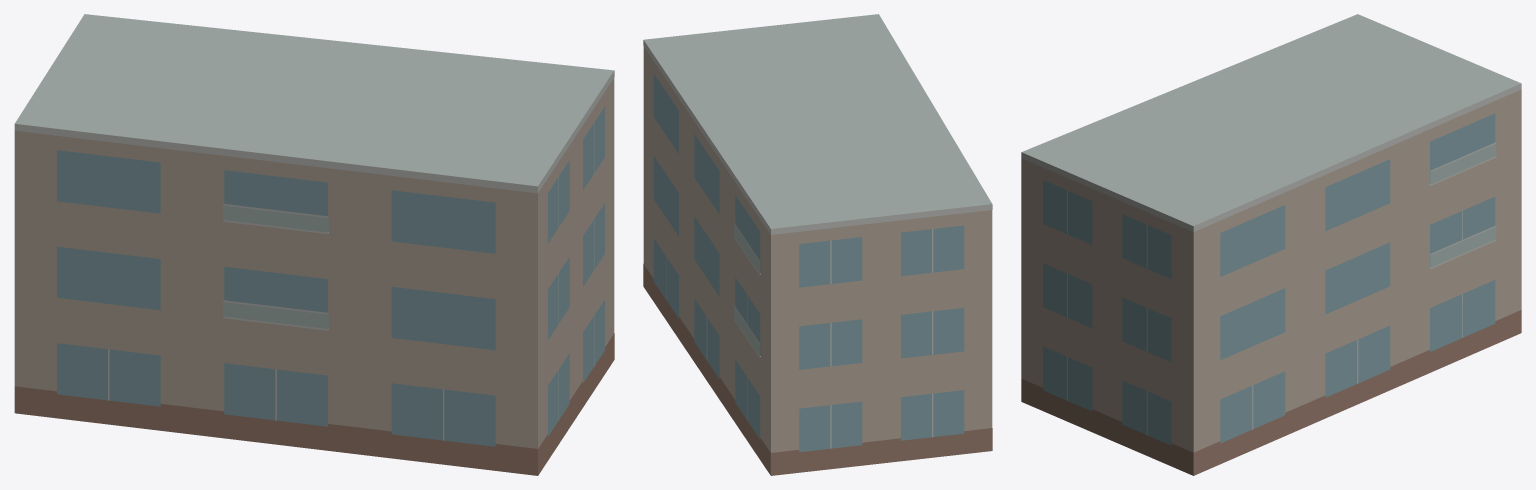
The model's file is survey-upis-32696005.glb.
3 renders of one model, left to right at view 1: azimuth 30°, elevation 25°; view 2: azimuth 150°, elevation 25°; view 3: azimuth 270°, elevation 25°, orthographic. The views are drawn at different scales.
Parts seen in each view (by area): view 1: survey-upis-32696005.tmp; view 2: survey-upis-32696005.tmp; view 3: survey-upis-32696005.tmp.
Part boxes in pixels (left/top/right/bottom): survey-upis-32696005.tmp: left=14, top=14, right=614, bottom=475; survey-upis-32696005.tmp: left=643, top=14, right=992, bottom=475; survey-upis-32696005.tmp: left=1021, top=14, right=1521, bottom=475.
Size of the model in its own units: 18.61 by 10.2 by 18.53.
